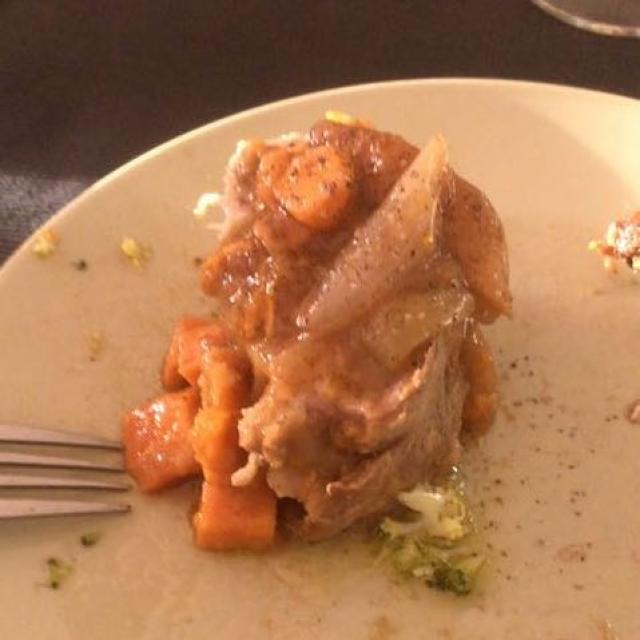carrot-raw: (134, 136, 393, 582)
pork: (124, 121, 503, 544)
sauce-savoury: (159, 120, 508, 565)
